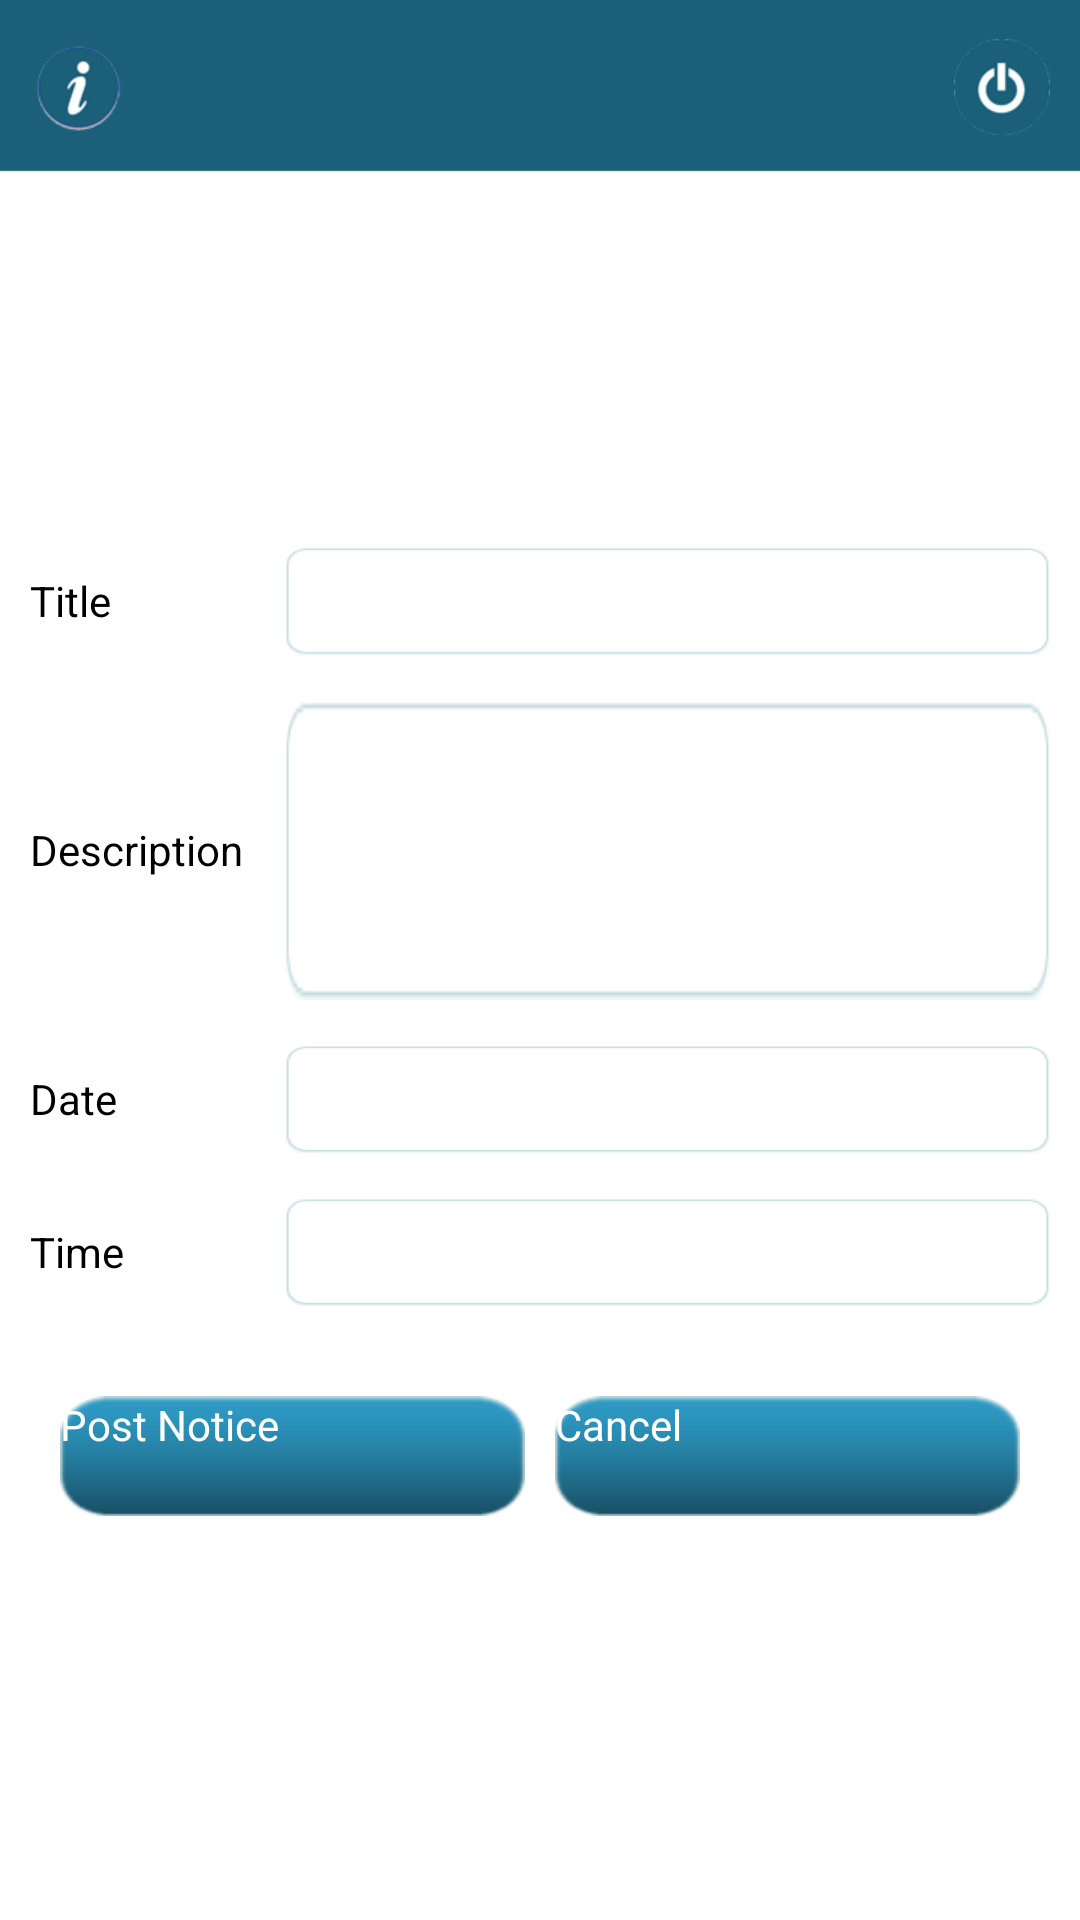

Where to tap for icons on this 1080w x 1920h app screen, as (x=x, y=y):
about us: (x=78, y=88)
